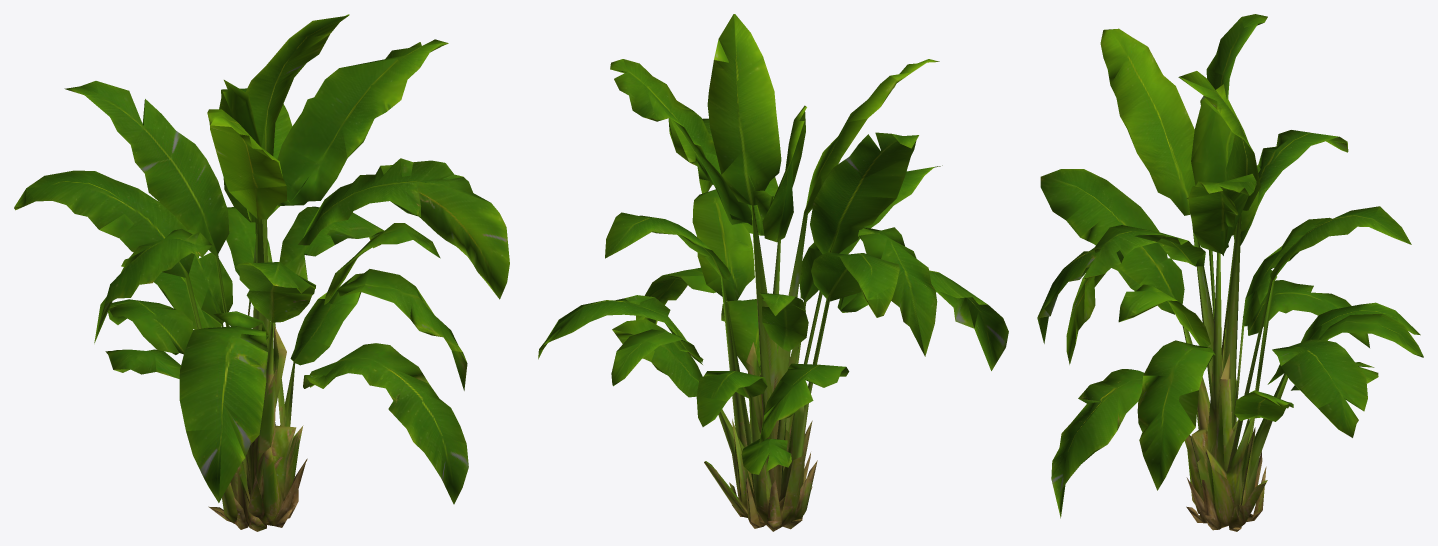
Rendered from VEG_PlantaTropical_02_LOD1.fbx.
3 views of the same model, side by side, from view 1: azimuth 30°, elevation 25°; view 2: azimuth 150°, elevation 25°; view 3: azimuth 270°, elevation 25° (orthographic). The views are drawn at different scales.
Parts seen in each view (by area): view 1: VEG_PlantaTropical_02_Mesh000; view 2: VEG_PlantaTropical_02_Mesh000; view 3: VEG_PlantaTropical_02_Mesh000.
Boxes of the visible parts, x1,y1,x2,y2 form: VEG_PlantaTropical_02_Mesh000: [14, 14, 509, 531]; VEG_PlantaTropical_02_Mesh000: [538, 14, 1008, 531]; VEG_PlantaTropical_02_Mesh000: [1037, 14, 1423, 531].
Size of the model in its own units: 1.59 by 2.1 by 1.56.
